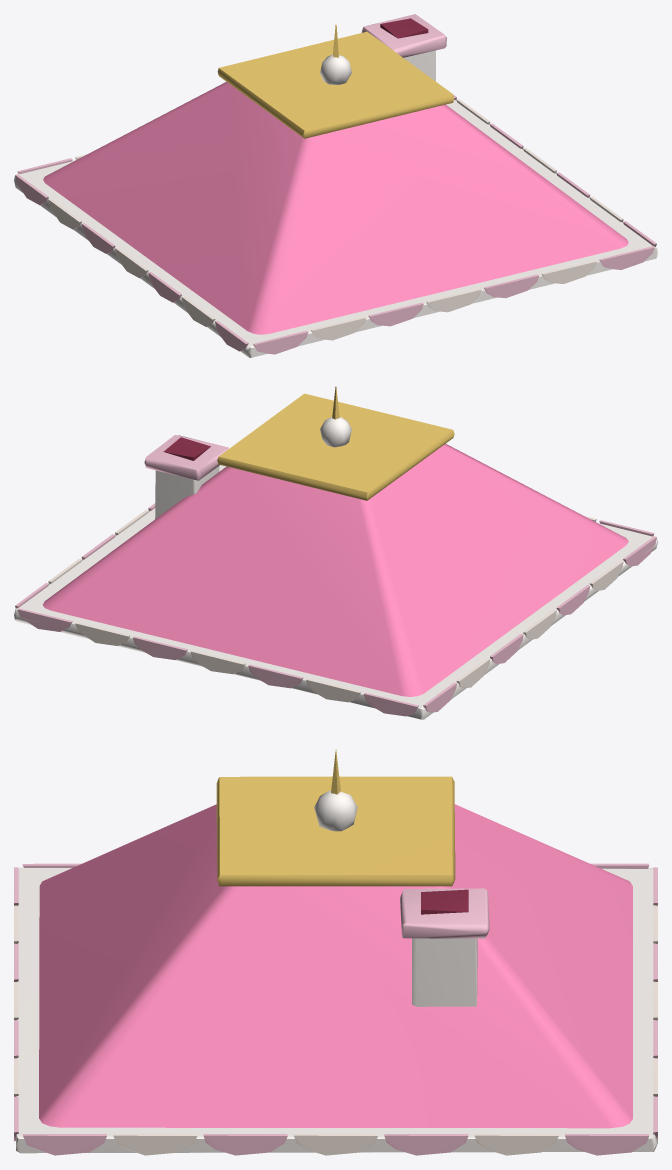
The model's file is roof_pitched.glb.
The picture shows the model from 3 angles, top to bottom: view 1: azimuth 30°, elevation 25°; view 2: azimuth 150°, elevation 25°; view 3: azimuth 270°, elevation 25°; orthographic projection. The views are drawn at different scales.
Parts seen in each view (by area): view 1: roof_pitched; view 2: roof_pitched; view 3: roof_pitched.
Part boxes in pixels (left/top/right/bottom): roof_pitched: left=14, top=14, right=657, bottom=357; roof_pitched: left=14, top=386, right=657, bottom=719; roof_pitched: left=14, top=749, right=657, bottom=1155.
Bounding box in the file's own units: 9.47 × 4.4 × 9.47.
